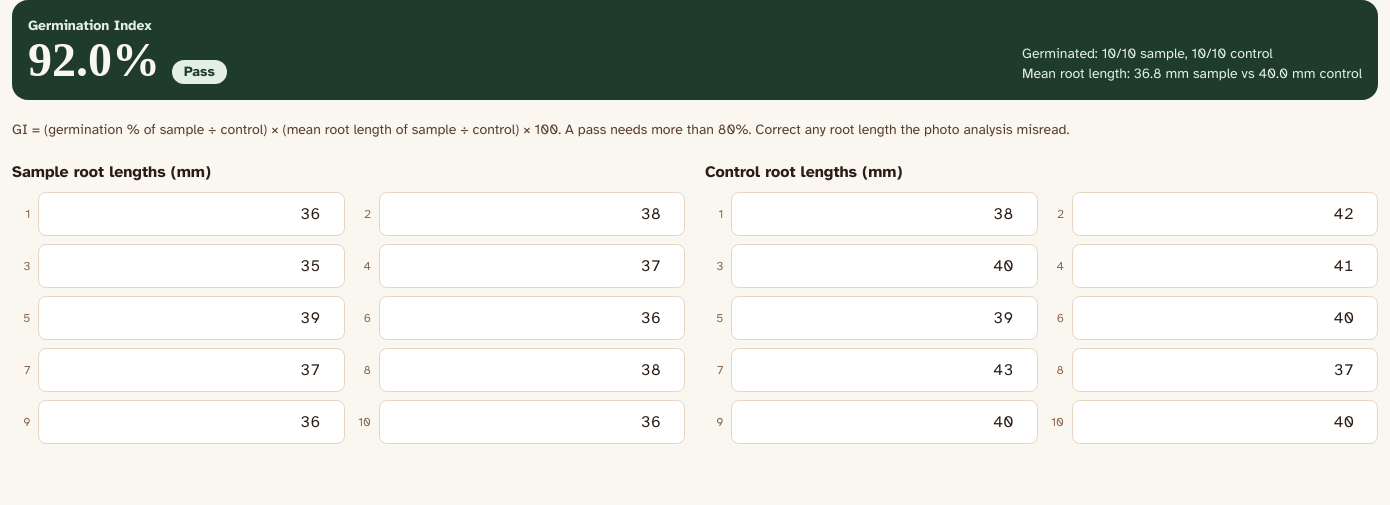
GiEditor › flags an empty cell and reports no result
Clear the 7th number field named "Control seed 3 root length (mm)": (884, 266) [731, 244, 1038, 288]
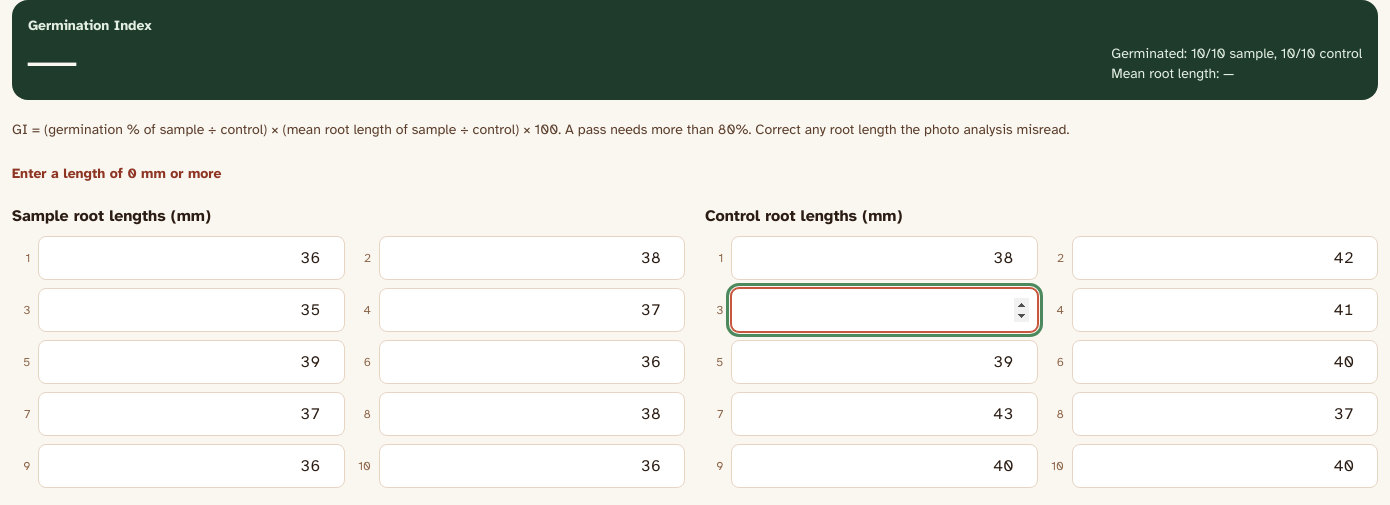
Expected: the text "—" is shown, [28, 36, 76, 84]
Expected: the text "Enter a length of 0 mm or more" is shown, [12, 165, 222, 182]
